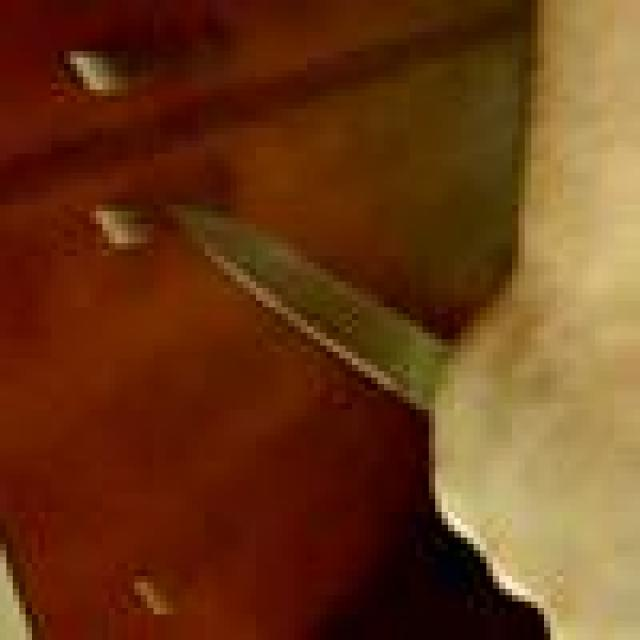knife: (171, 203, 456, 414)
